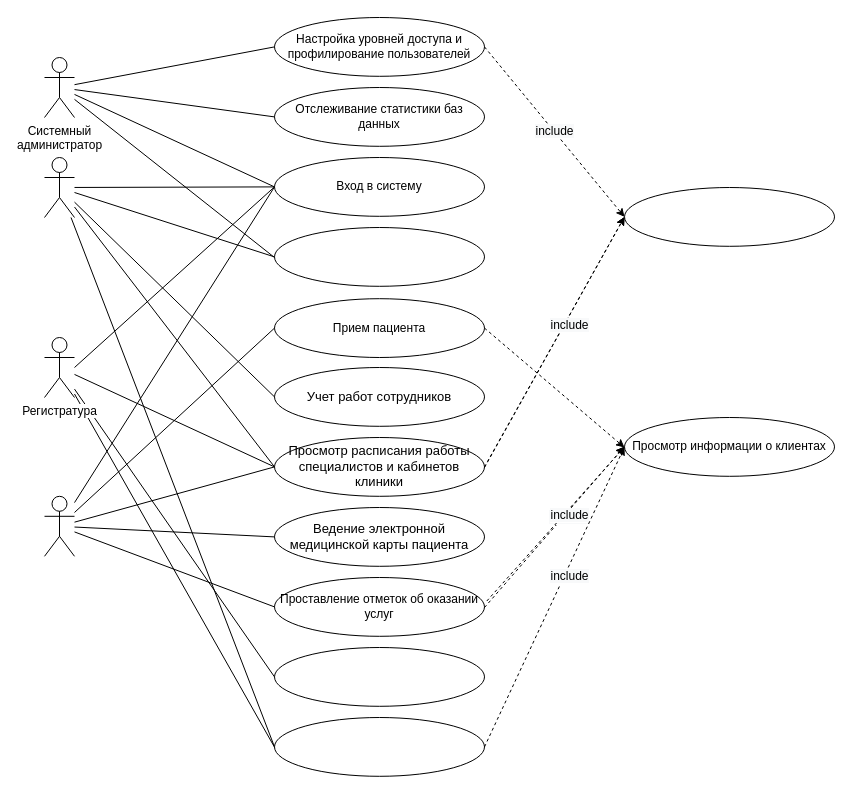
The diagram is 852 pixels wide and 794 high, and some of its shapes have lost their labels. The shapes that lost their labels are listed below. From the top down, each one's centre as x and y in pixels, then its label:
At (59,187): "Управляющий ветклиники".
At (729,216): "Просмотр информации о сотрудниках".
At (379,256): "Регистрация новых пользователей".
At (59,525): "Ветеринар".
At (379,676): "Регистрация новых клиентов".
At (379,746): "Учет клиентов".
